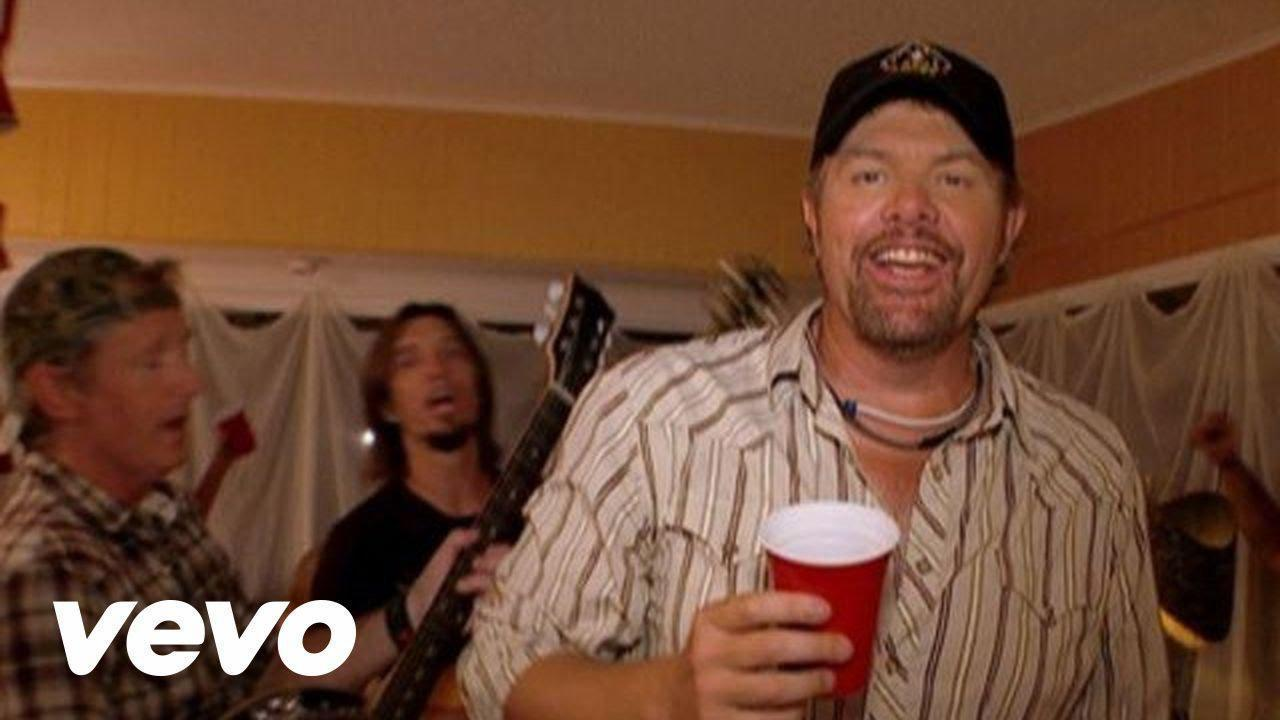Drunk: (832, 104, 995, 344)
